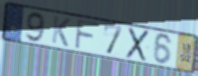6: (151, 33, 176, 66)
7: (103, 22, 125, 57)
9: (25, 11, 46, 43)
F: (73, 18, 100, 52)
K: (50, 14, 72, 49)
X: (124, 26, 151, 63)
